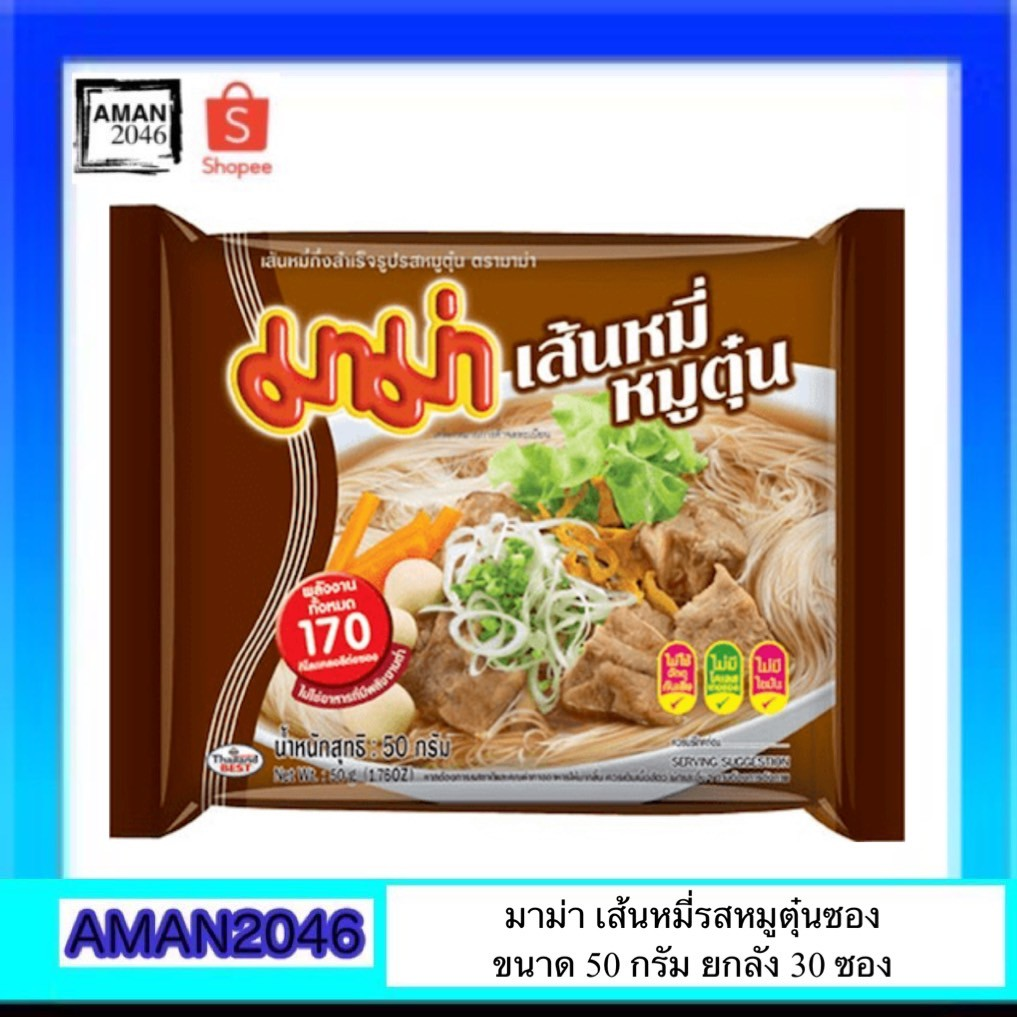Snack: (98, 195, 926, 850)
